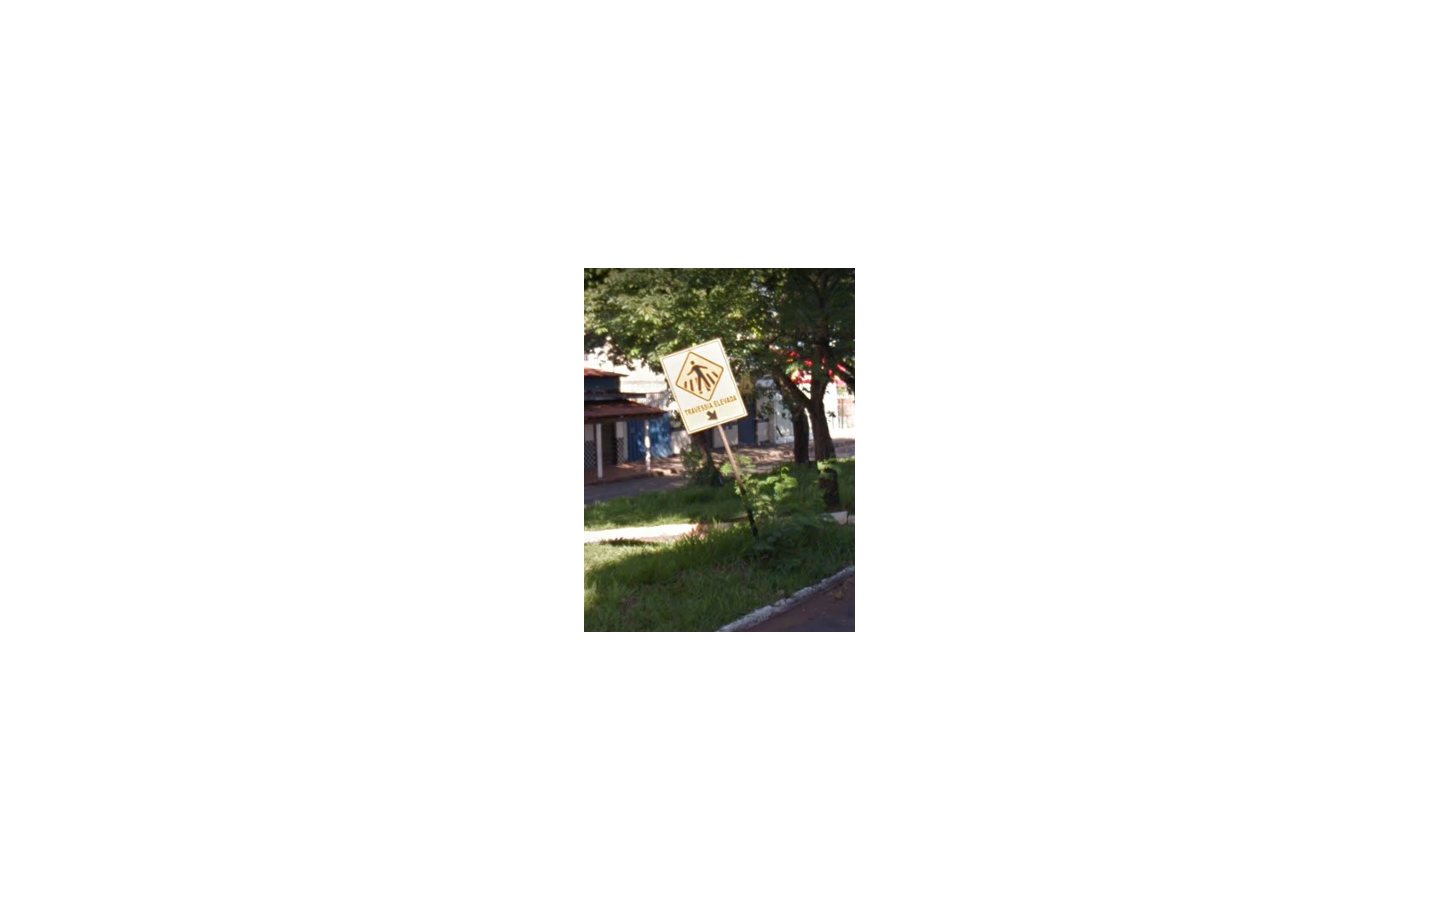telev: (658, 339, 749, 434)
